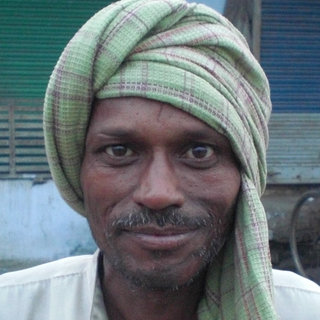eye: (96, 139, 143, 164), (176, 141, 217, 164)
